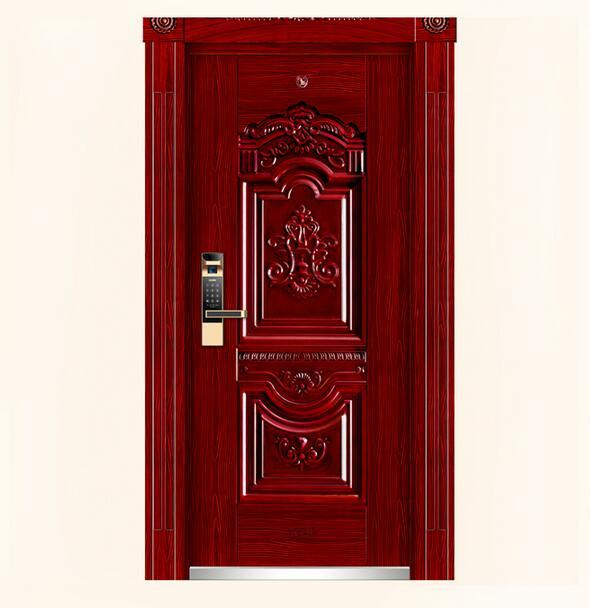door: (187, 47, 415, 567)
